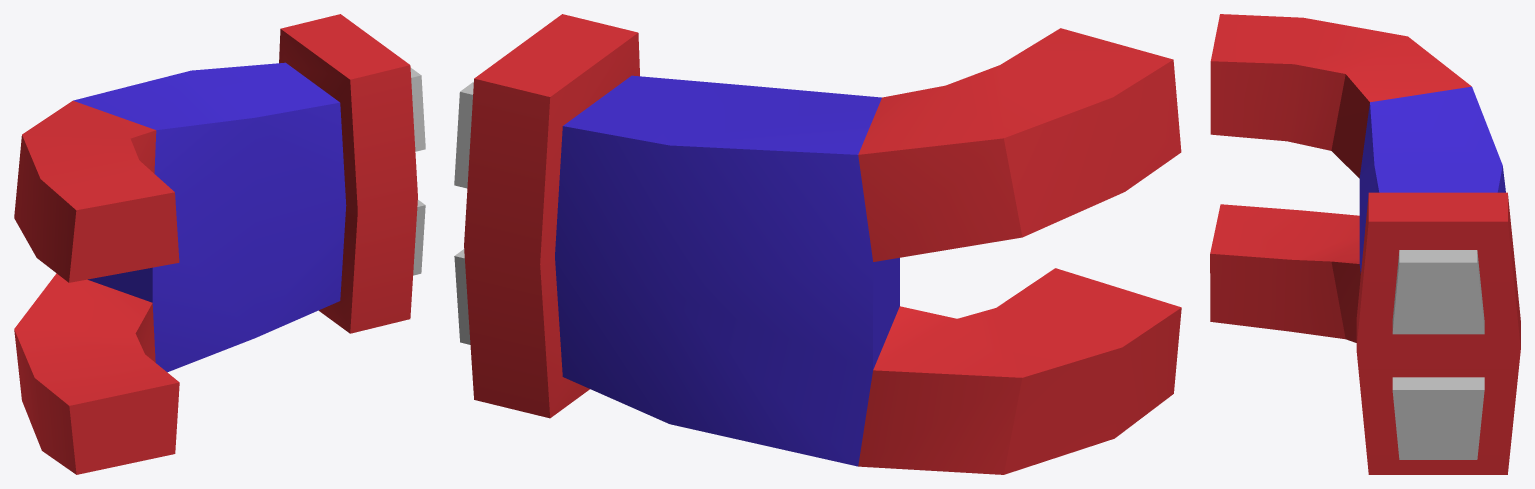
Rendered from R Hand 02.FBX.
3 views of the same model, side by side, from view 1: azimuth 30°, elevation 25°; view 2: azimuth 150°, elevation 25°; view 3: azimuth 270°, elevation 25° (orthographic). The views are drawn at different scales.
Visible parts, largest first — view 1: R Hand 02; view 2: R Hand 02; view 3: R Hand 02.
Part boxes in pixels (x1=…): R Hand 02: x1=14, y1=14, x2=425, y2=474; R Hand 02: x1=454, y1=14, x2=1181, y2=474; R Hand 02: x1=1210, y1=14, x2=1520, y2=474.
Bounding box in the file's own units: 32.54 × 19.07 × 19.84.
Materials: 1 (1 with a texture image).
